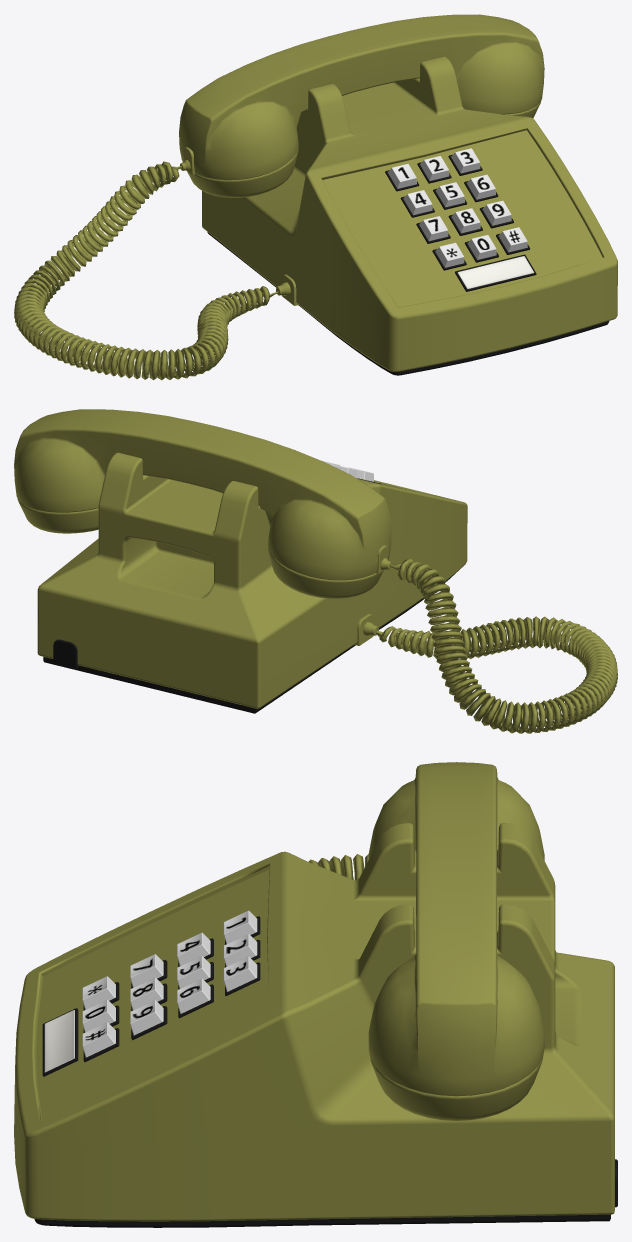
Rendered from Phone.fbx.
The picture shows the model from 3 angles, top to bottom: view 1: azimuth 30°, elevation 25°; view 2: azimuth 150°, elevation 25°; view 3: azimuth 270°, elevation 25°; orthographic projection. The views are drawn at different scales.
Parts seen in each view (by area): view 1: Cube, Cube.001, BezierCircle, Cube.011, Cube.010, Cube.017, Cube.007, Cube.008, Cube.016, Cube.004, Cube.015, Cube.003 (+4 smaller); view 2: Cube, Cube.001, BezierCircle, Cube.014, Cube.012; view 3: Cube, Cube.001, Cube.011, Cube.008, Cube.005, Cube.015, Cube.002, BezierCircle, Cube.010, Cube.007, Cube.017, Cube.004 (+4 smaller).
Part boxes in pixels (x1,y1,x2,y2): Cube: [202, 56, 617, 375]; Cube.001: [179, 14, 544, 197]; BezierCircle: [14, 161, 278, 380]; Cube.011: [455, 254, 536, 291]; Cube.010: [432, 242, 466, 270]; Cube.017: [385, 164, 419, 191]; Cube.007: [416, 216, 450, 243]; Cube.008: [496, 227, 530, 254]; Cube.016: [417, 156, 451, 183]; Cube.004: [400, 190, 434, 217]; Cube.015: [448, 148, 482, 175]; Cube.003: [433, 182, 467, 209]; Cube: [37, 452, 467, 713]; Cube.001: [14, 409, 391, 598]; BezierCircle: [376, 558, 617, 733]; Cube.014: [53, 639, 78, 668]; Cube.012: [354, 614, 378, 645]; Cube: [14, 823, 614, 1227]; Cube.001: [368, 762, 544, 1120]; Cube.011: [42, 1008, 78, 1076]; Cube.008: [82, 1022, 119, 1061]; Cube.005: [130, 1000, 167, 1040]; Cube.015: [223, 956, 260, 995]; Cube.002: [177, 978, 213, 1018]; BezierCircle: [308, 854, 368, 880]; Cube.010: [82, 976, 119, 1010]; Cube.007: [130, 954, 167, 988]; Cube.017: [223, 910, 260, 944]; Cube.004: [177, 932, 213, 966].
Bounding box in the file's own units: 42.49 × 15.93 × 28.14.
